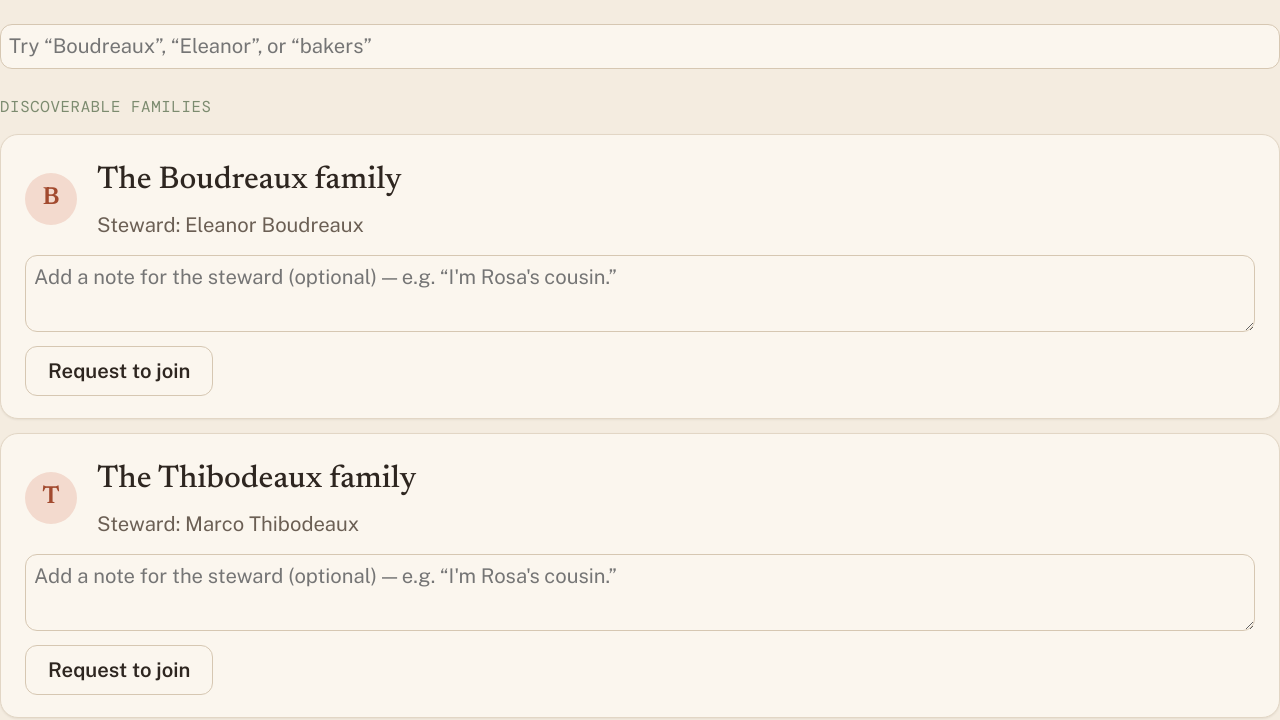
Test: FamilyFinder › filters live by family name and shows the match-count label
Type "boudreaux" into the field with placeholder "Try “Boudreaux”, “Eleanor”, or “bakers”" at point(640, 47), box [0, 24, 1279, 69]
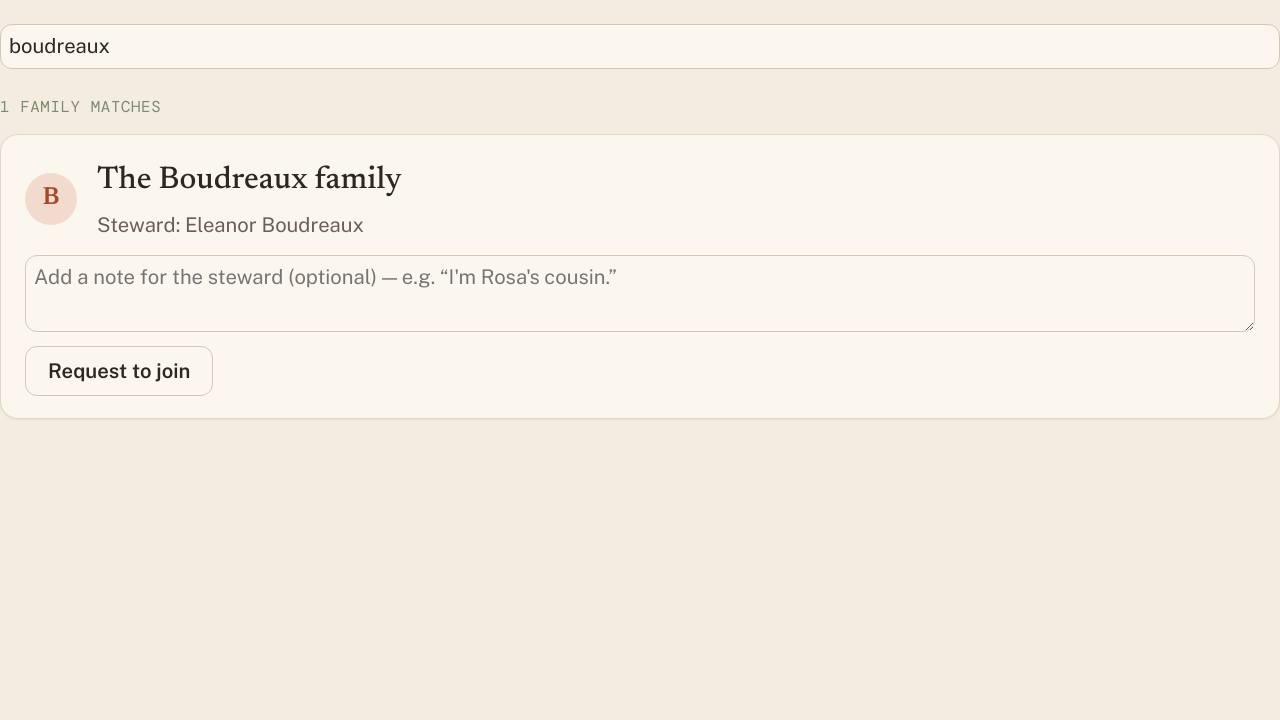
Expected: the text "The Boudreaux family" is shown, [97, 165, 402, 196]
Result: the text "1 family matches" is shown at [0, 96, 161, 117]
Result: the text "The Thibodeaux family" is gone
